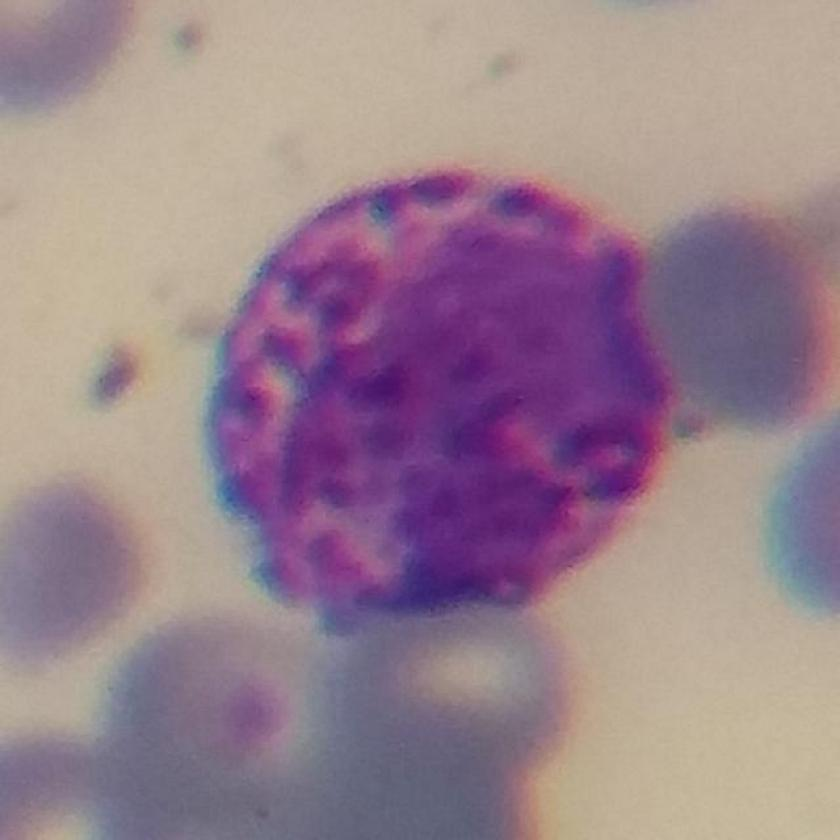basophil: (208, 149, 694, 656)
